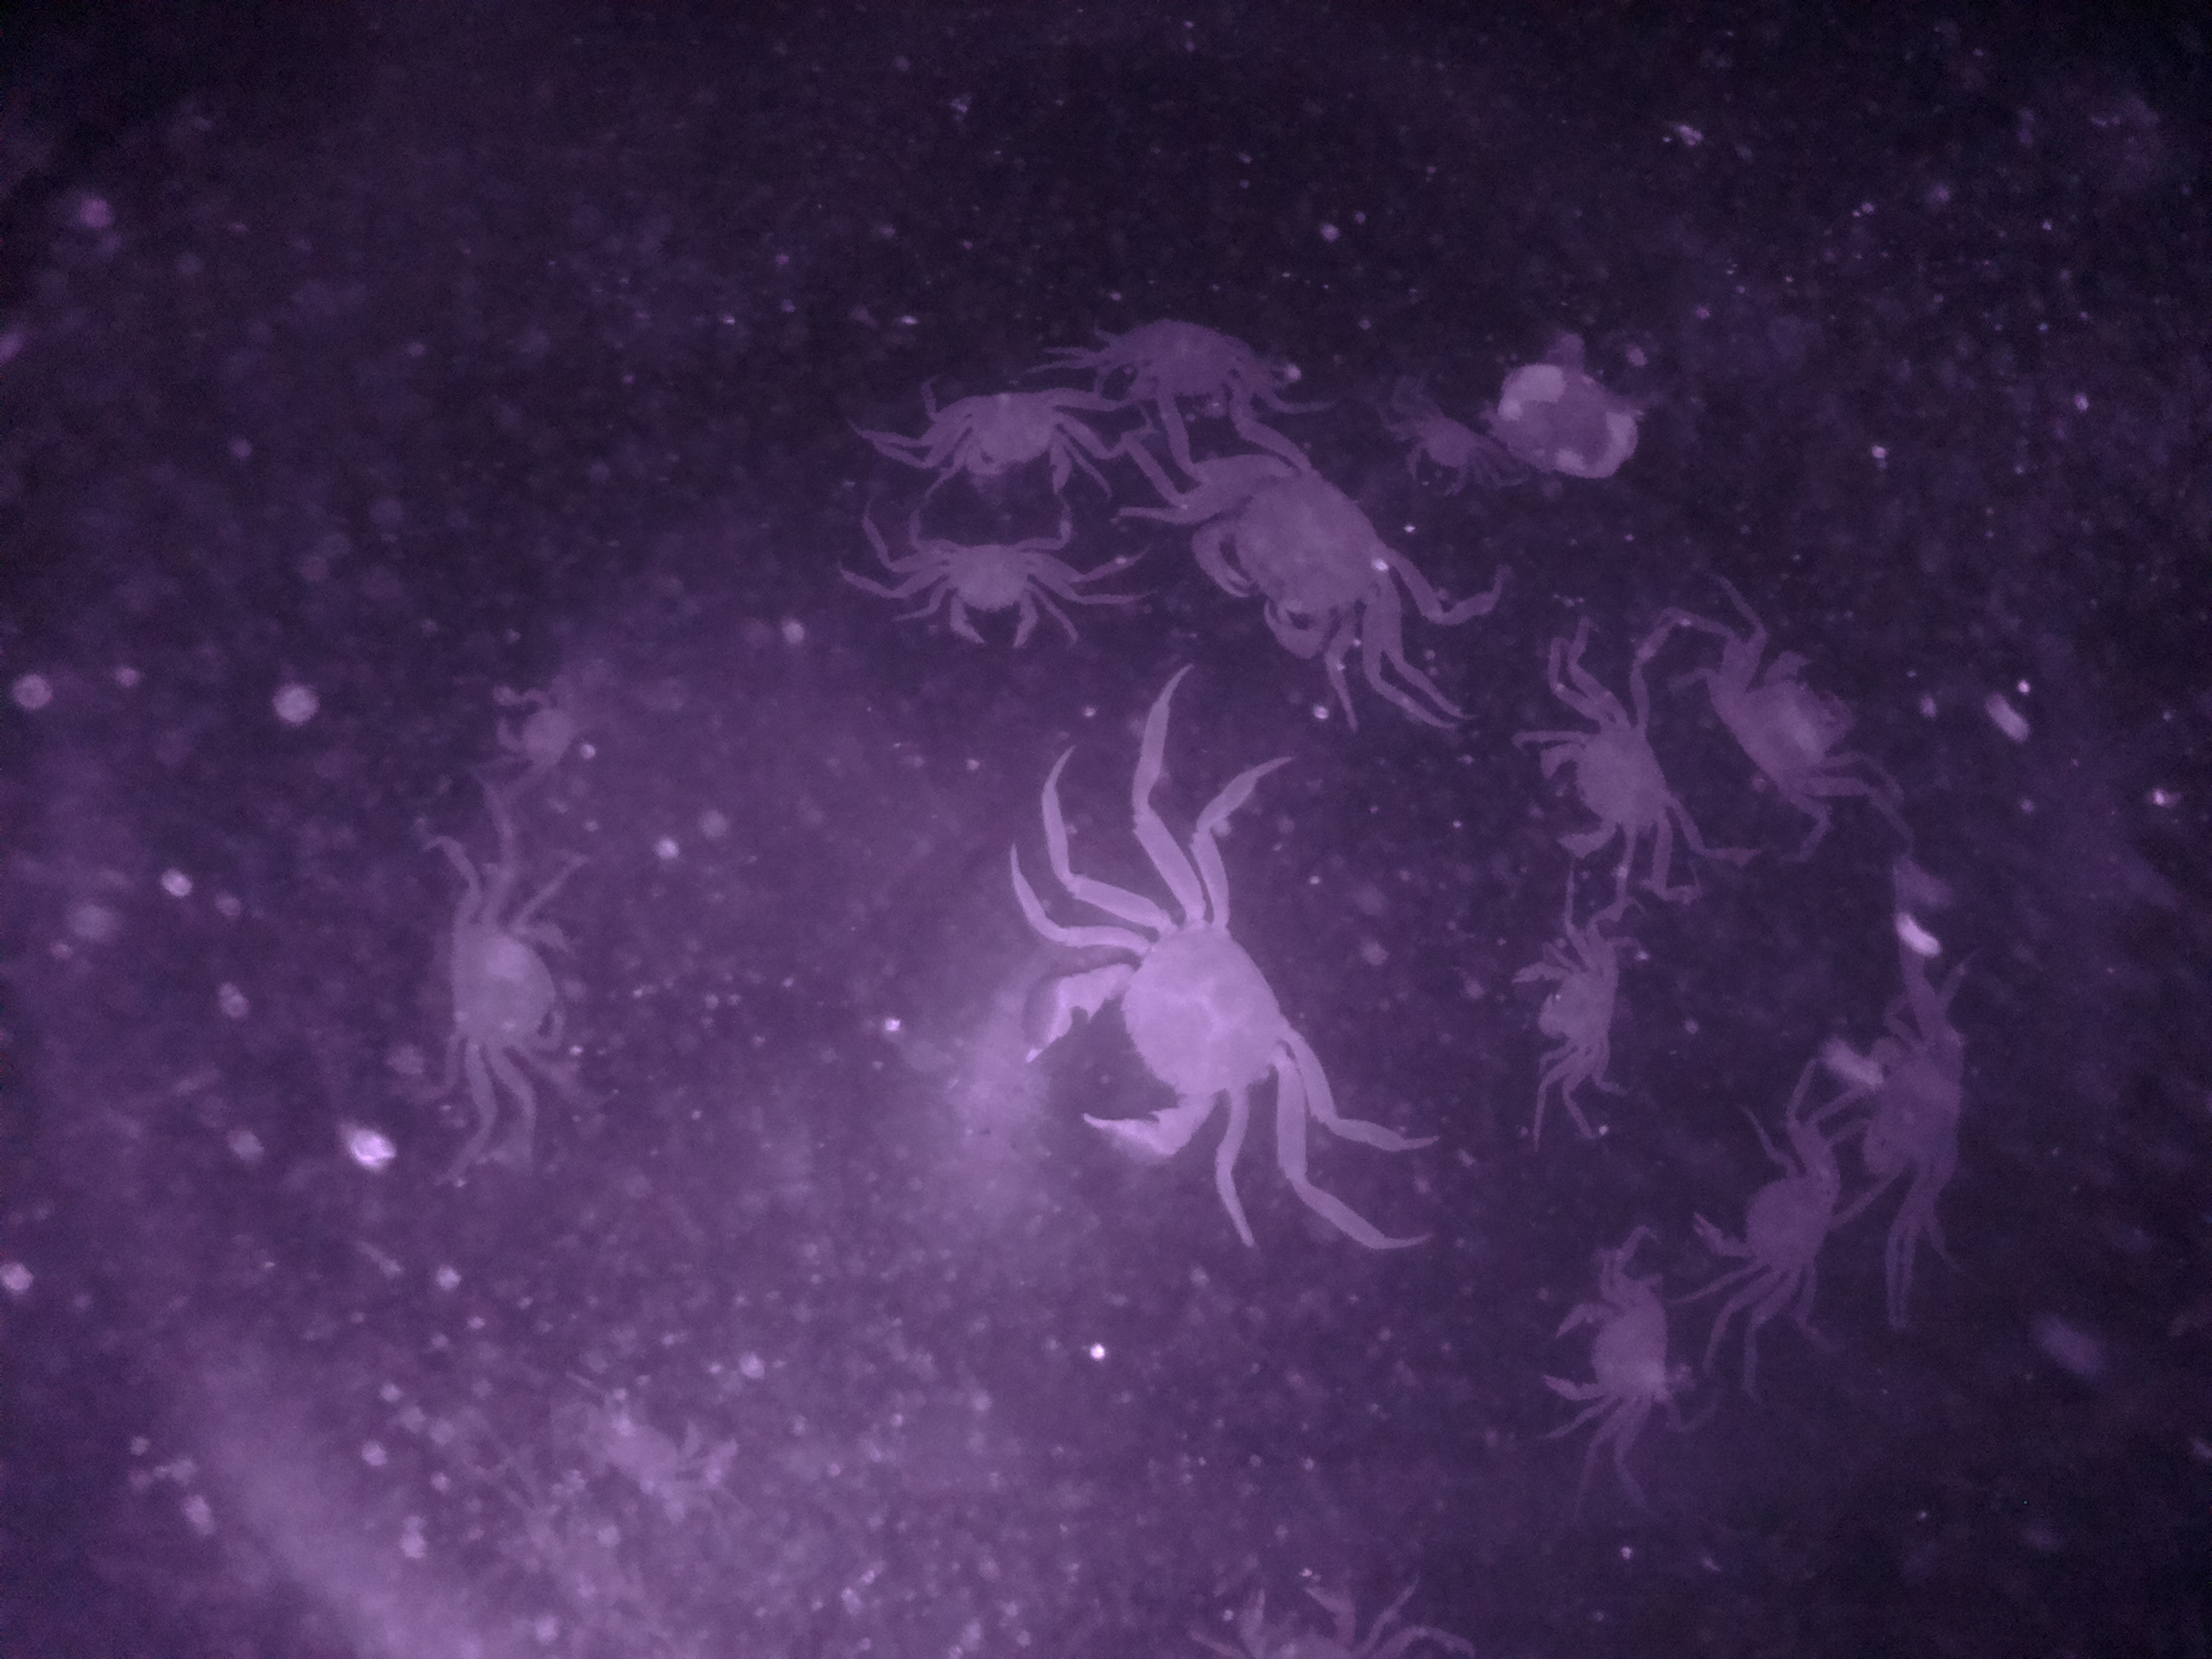Crab: (986, 884, 1318, 1166), (1176, 416, 1413, 680), (420, 884, 585, 1101), (1681, 1103, 1850, 1316), (1695, 638, 1886, 823), (1527, 673, 1700, 866), (1538, 1274, 1676, 1446), (911, 523, 1073, 664), (925, 373, 1092, 495), (1507, 929, 1627, 1080)
